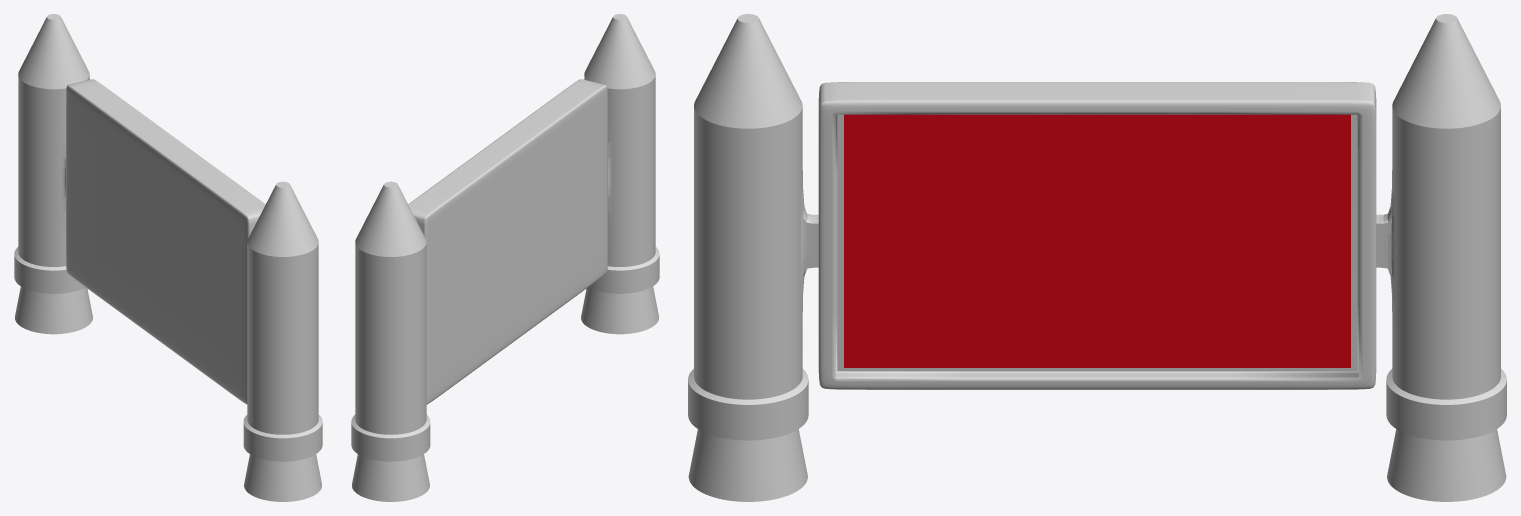
The model's file is Scoreboard.fbx.
3 views of the same model, side by side, from view 1: azimuth 30°, elevation 25°; view 2: azimuth 150°, elevation 25°; view 3: azimuth 270°, elevation 25° (orthographic). The views are drawn at different scales.
Parts seen in each view (by area): view 1: Цилиндр; view 2: Цилиндр; view 3: Цилиндр.
Part boxes in pixels (x1=…): Цилиндр: x1=14, y1=14, x2=322, y2=501; Цилиндр: x1=351, y1=14, x2=659, y2=501; Цилиндр: x1=688, y1=14, x2=1506, y2=501.
Size of the model in its own units: 48.15 by 202 by 327.
